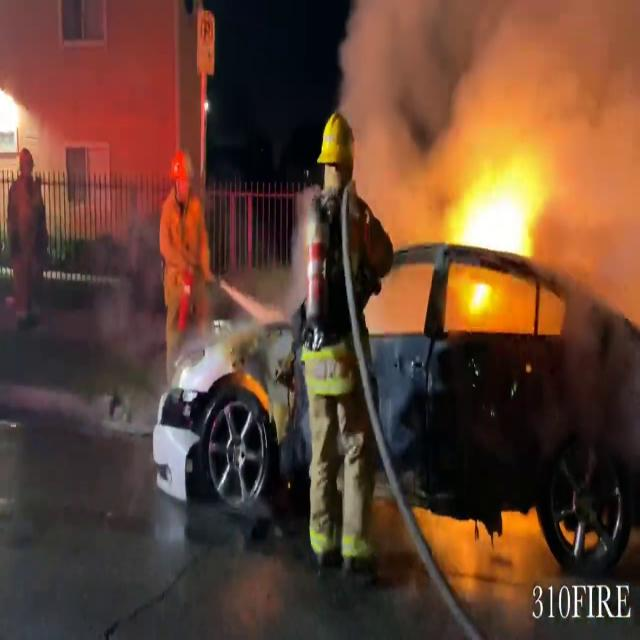Fire: (444, 156, 550, 268)
Smoke: (327, 0, 640, 235)
